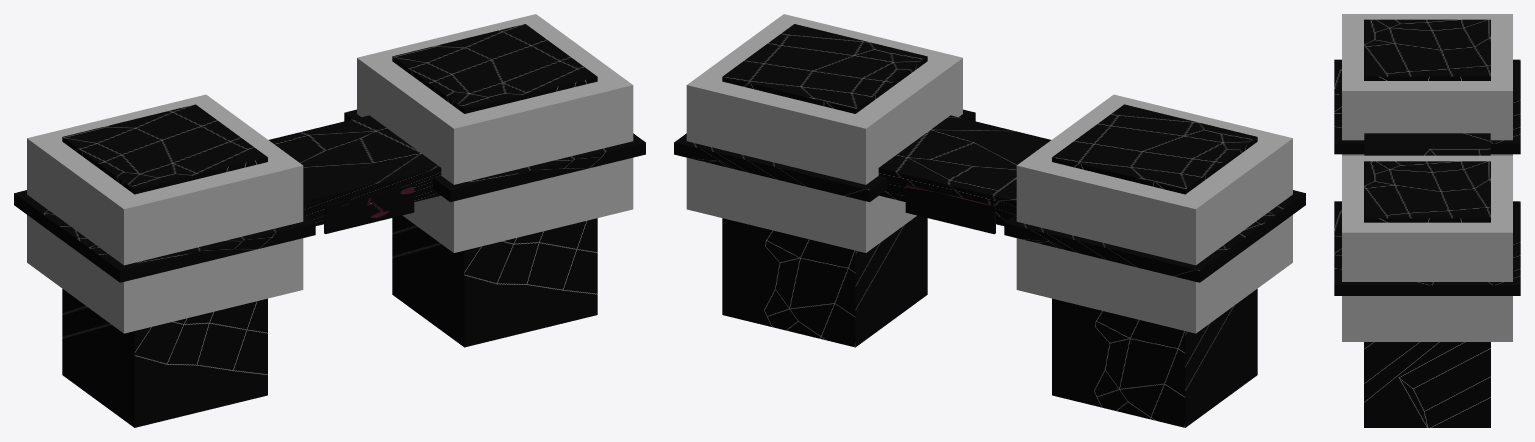
The model's file is purpletext.fbx.
The picture shows the model from 3 angles, left to right: view 1: azimuth 30°, elevation 25°; view 2: azimuth 150°, elevation 25°; view 3: azimuth 270°, elevation 25°; orthographic projection. The views are drawn at different scales.
Parts seen in each view (by area): view 1: polySurface6; view 2: polySurface6; view 3: polySurface6.
Part boxes in pixels (x1,y1,x2,y2): polySurface6: (14,14,645,427); polySurface6: (674,14,1305,427); polySurface6: (1334,14,1520,427).
Size of the model in its own units: 9.63 by 4.17 by 3.36.
3 materials, 2 textured.
